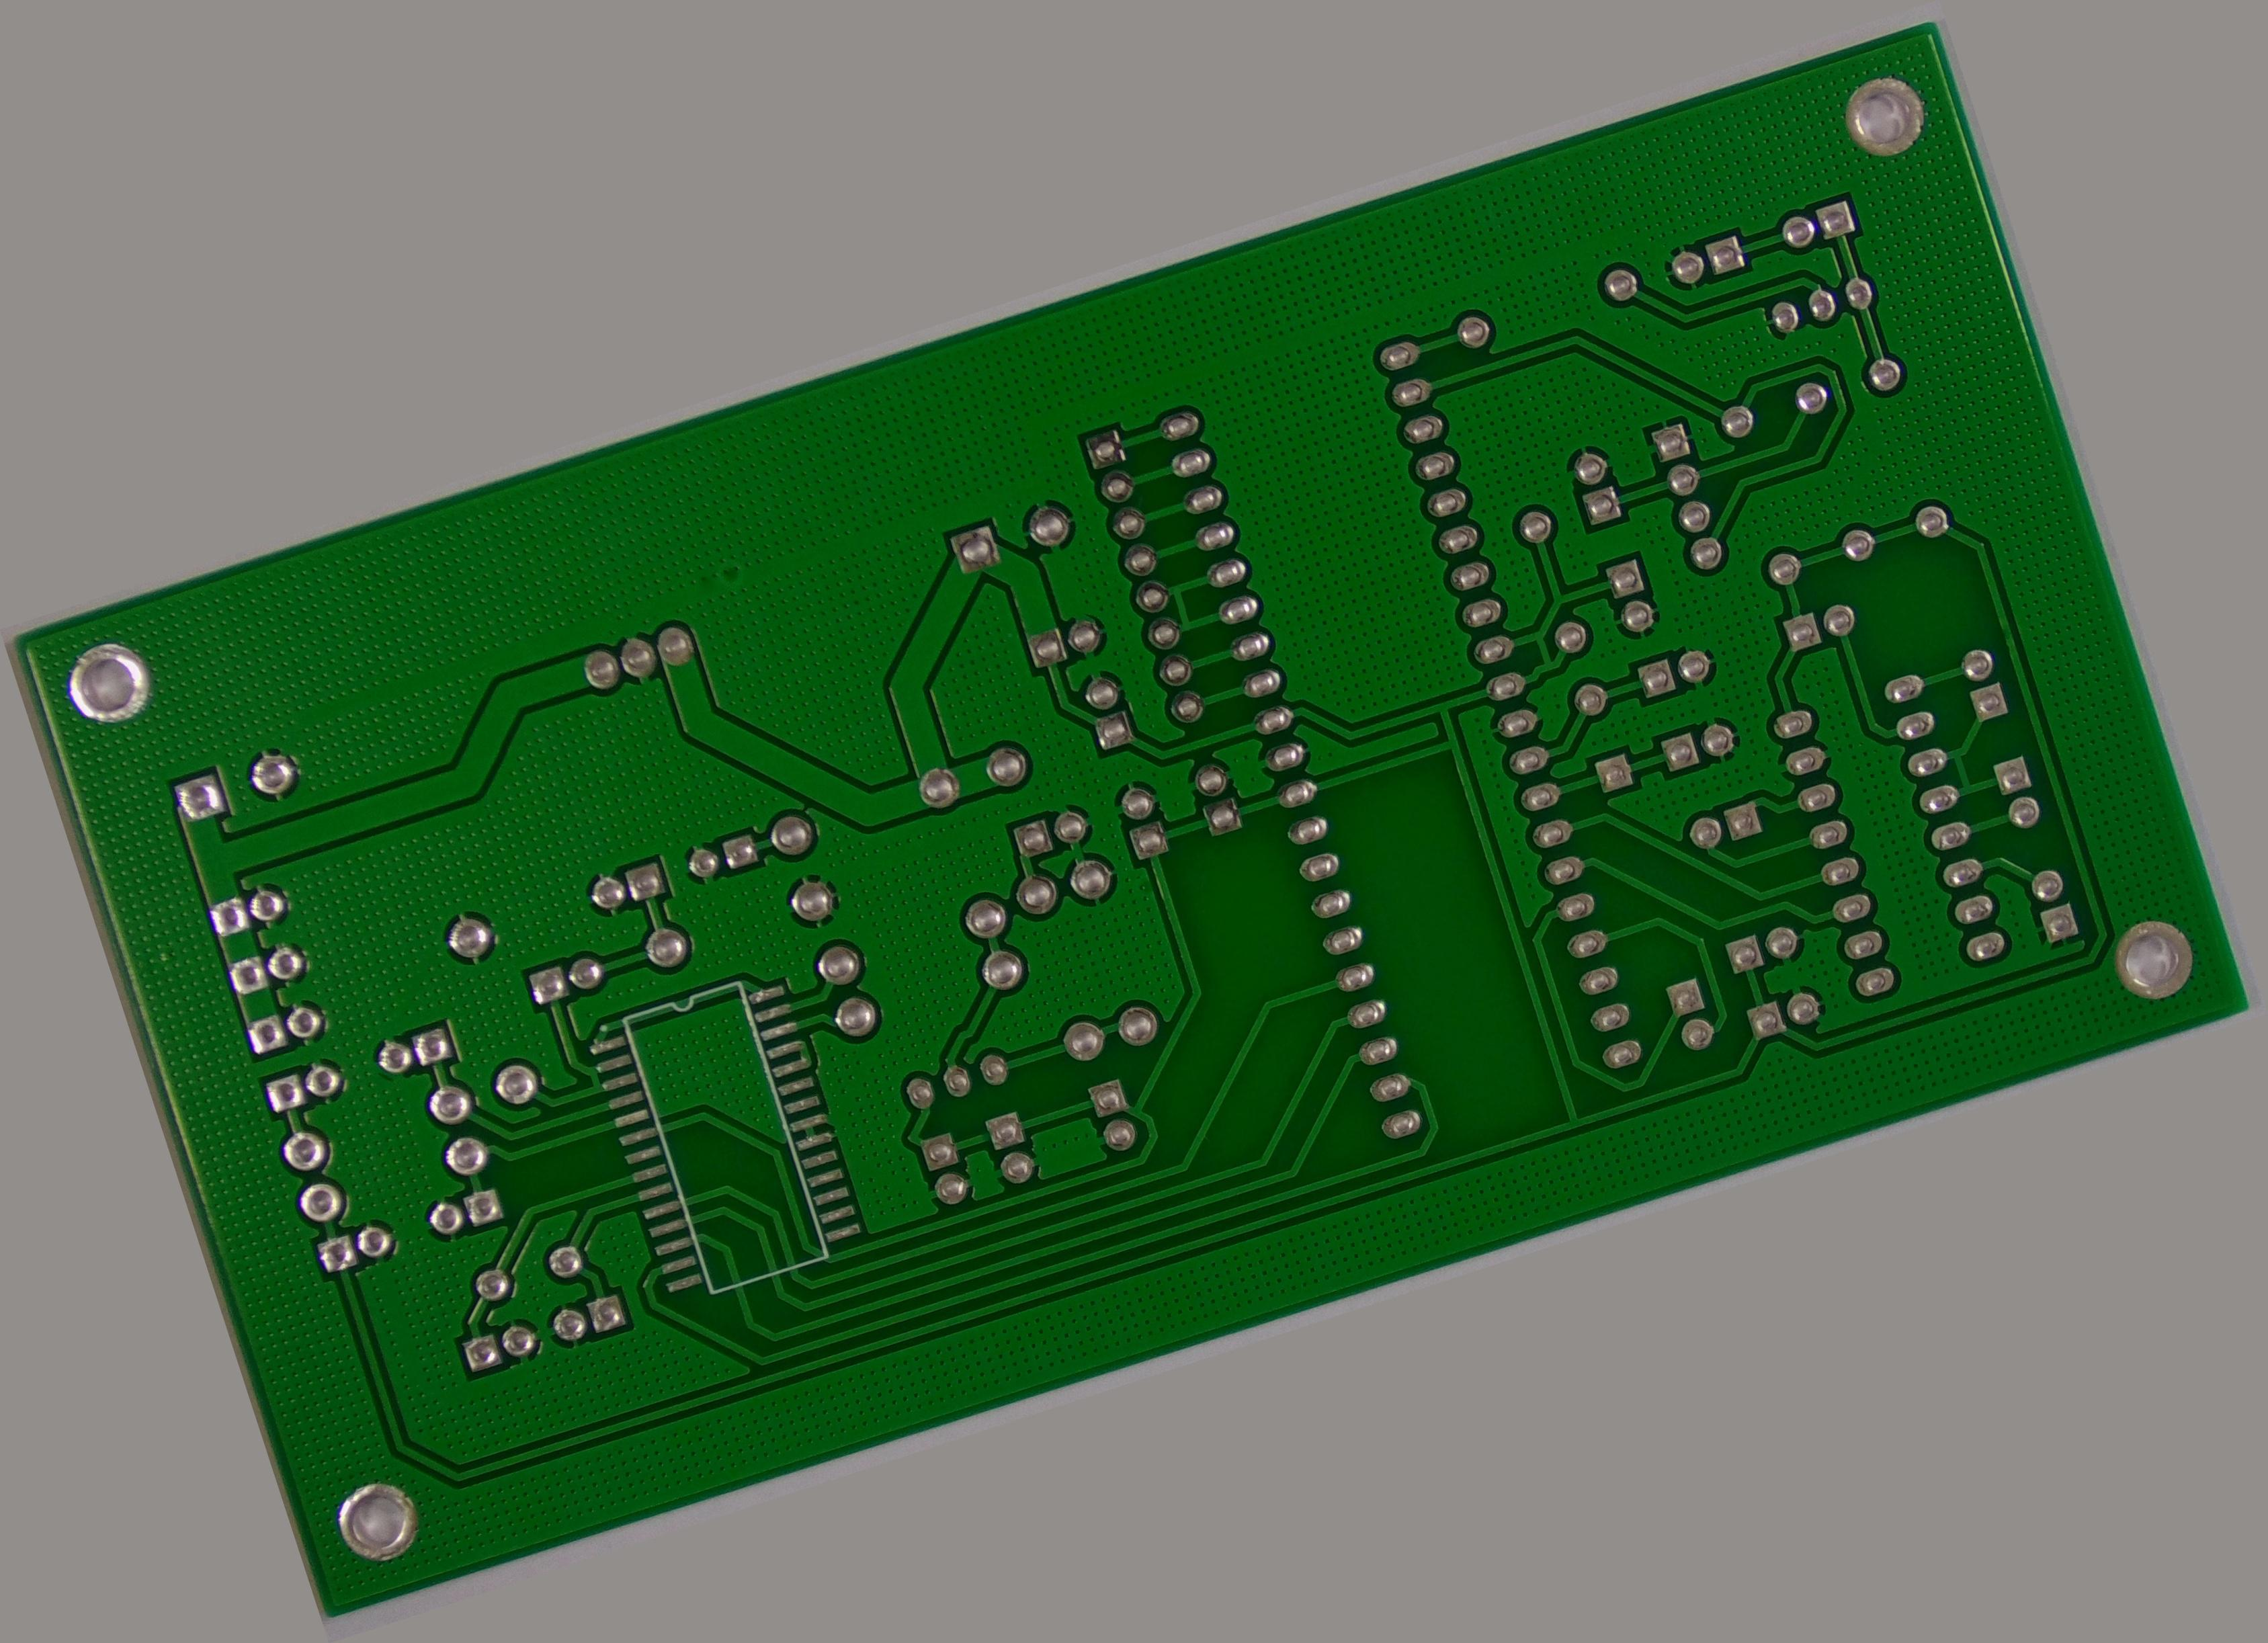short: (1139, 567, 1219, 650), (1928, 734, 1992, 808), (1513, 615, 1567, 680), (578, 1057, 615, 1097)
